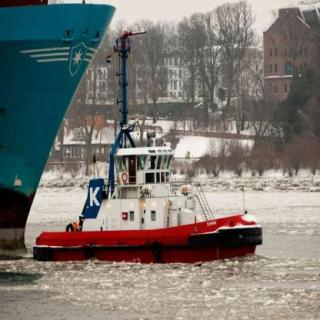Tug Boat: (29, 15, 265, 264)
